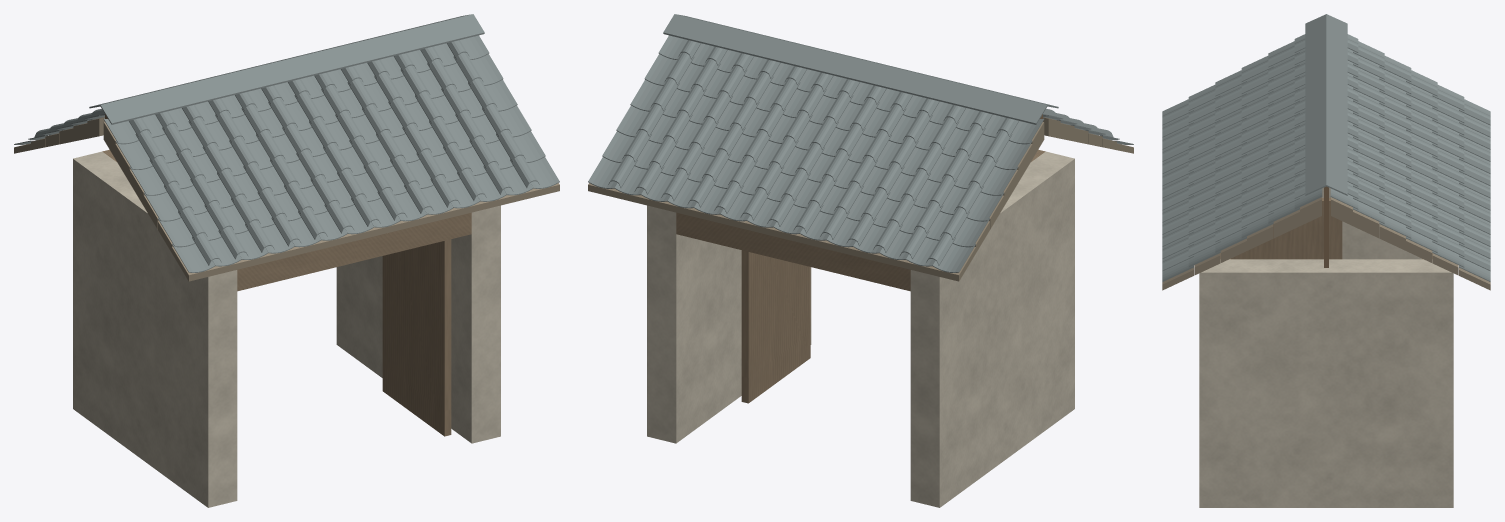
Rendered from gate-middle-local.glb.
3 renders of one model, left to right at view 1: azimuth 30°, elevation 25°; view 2: azimuth 150°, elevation 25°; view 3: azimuth 270°, elevation 25°, orthographic. The views are drawn at different scales.
Parts seen in each view (by area): view 1: original_gate_C02-010__architecture_C_whitebox_earth_wall.00, original_gate_C02-010__architecture_C_plain_timber.001, C_continuous_ridge_cap, C_bedding_1_0, pan_1_0_0, pan_1_0_13, pan_1_2_0, pan_1_1_0, pan_1_4_0, pan_1_3_0; view 2: original_gate_C02-010__architecture_C_whitebox_earth_wall.00, original_gate_C02-010__architecture_C_plain_timber.001, C_continuous_ridge_cap, C_bedding_-1_0, pan_-1_0_13, pan_-1_0_0, pan_-1_2_13, pan_-1_1_13, pan_-1_4_13, pan_-1_3_13; view 3: original_gate_C02-010__architecture_C_whitebox_earth_wall.00, C_continuous_ridge_cap, original_gate_C02-010__architecture_C_plain_timber.001, C_bedding_1_4, C_bedding_-1_4, C_bedding_1_5, C_bedding_-1_5, C_bedding_1_3, C_bedding_-1_3.
Part boxes in pixels (x1,y1,x2,y2): original_gate_C02-010__architecture_C_whitebox_earth_wall.00: [73, 151, 500, 507]; original_gate_C02-010__architecture_C_plain_timber.001: [102, 149, 471, 436]; C_continuous_ridge_cap: [89, 14, 484, 124]; C_bedding_1_0: [172, 183, 559, 281]; pan_1_0_0: [172, 243, 215, 272]; pan_1_0_13: [527, 157, 559, 188]; pan_1_2_0: [143, 192, 181, 221]; pan_1_1_0: [158, 218, 195, 247]; pan_1_4_0: [115, 140, 152, 169]; pan_1_3_0: [129, 166, 166, 195]; original_gate_C02-010__architecture_C_whitebox_earth_wall.00: [647, 151, 1074, 507]; original_gate_C02-010__architecture_C_plain_timber.001: [676, 149, 1045, 403]; C_continuous_ridge_cap: [663, 14, 1058, 124]; C_bedding_-1_0: [588, 183, 975, 281]; pan_-1_0_13: [932, 243, 975, 272]; pan_-1_0_0: [588, 157, 620, 188]; pan_-1_2_13: [966, 192, 1004, 221]; pan_-1_1_13: [952, 218, 989, 247]; pan_-1_4_13: [995, 140, 1032, 169]; pan_-1_3_13: [981, 166, 1018, 195]; original_gate_C02-010__architecture_C_whitebox_earth_wall.00: [1199, 187, 1453, 507]; C_continuous_ridge_cap: [1305, 14, 1347, 195]; original_gate_C02-010__architecture_C_plain_timber.001: [1220, 198, 1432, 259]; C_bedding_1_4: [1273, 209, 1299, 238]; C_bedding_-1_4: [1353, 209, 1379, 238]; C_bedding_1_5: [1300, 197, 1321, 225]; C_bedding_-1_5: [1331, 197, 1352, 225]; C_bedding_1_3: [1247, 224, 1273, 250]; C_bedding_-1_3: [1379, 224, 1405, 250].
Size of the model in its own units: 3.82 by 3.56 by 3.1.
5 materials, 2 textured.
